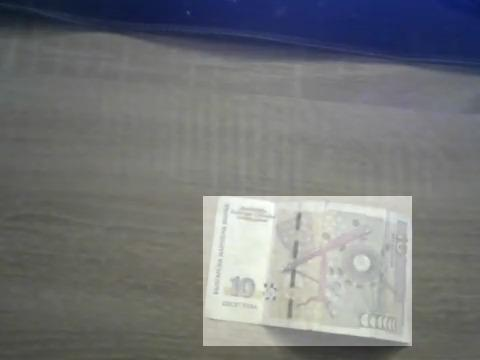10leva: (203, 196, 412, 346)
